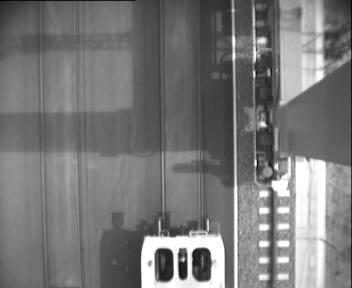Copy of wagon_scan: (150, 244, 214, 286)
